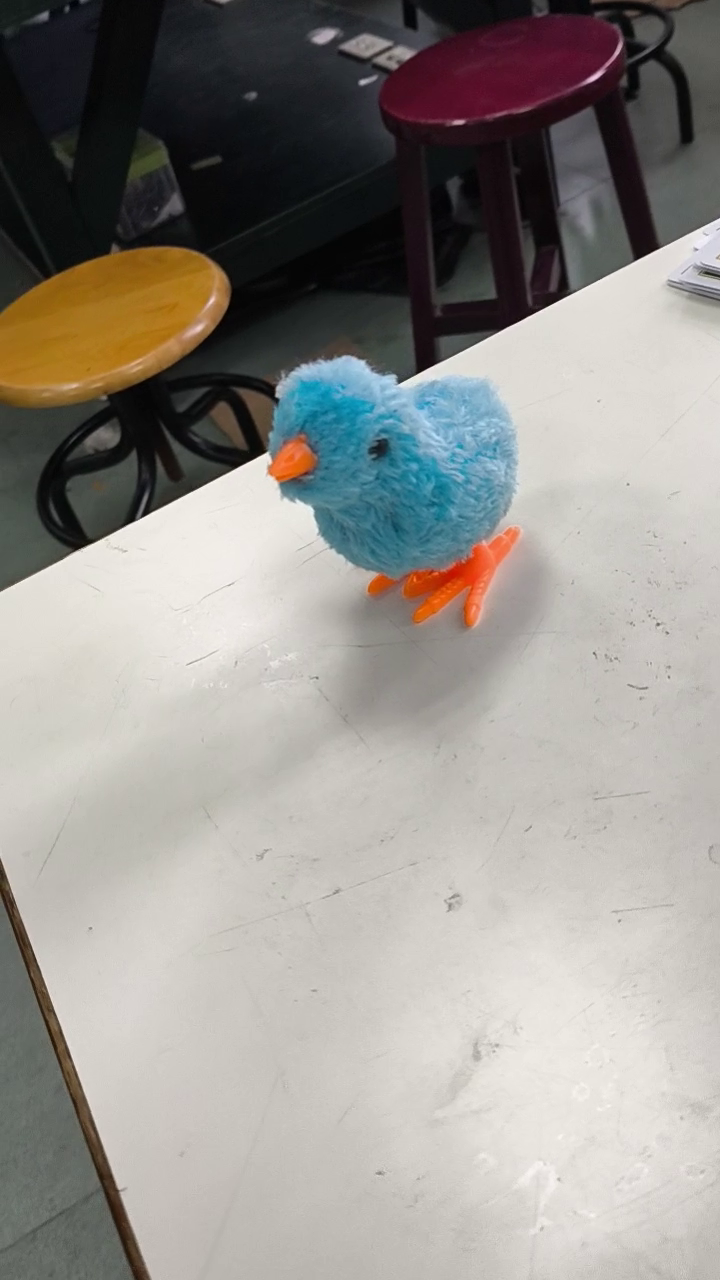blue chicken: (263, 352, 527, 641)
